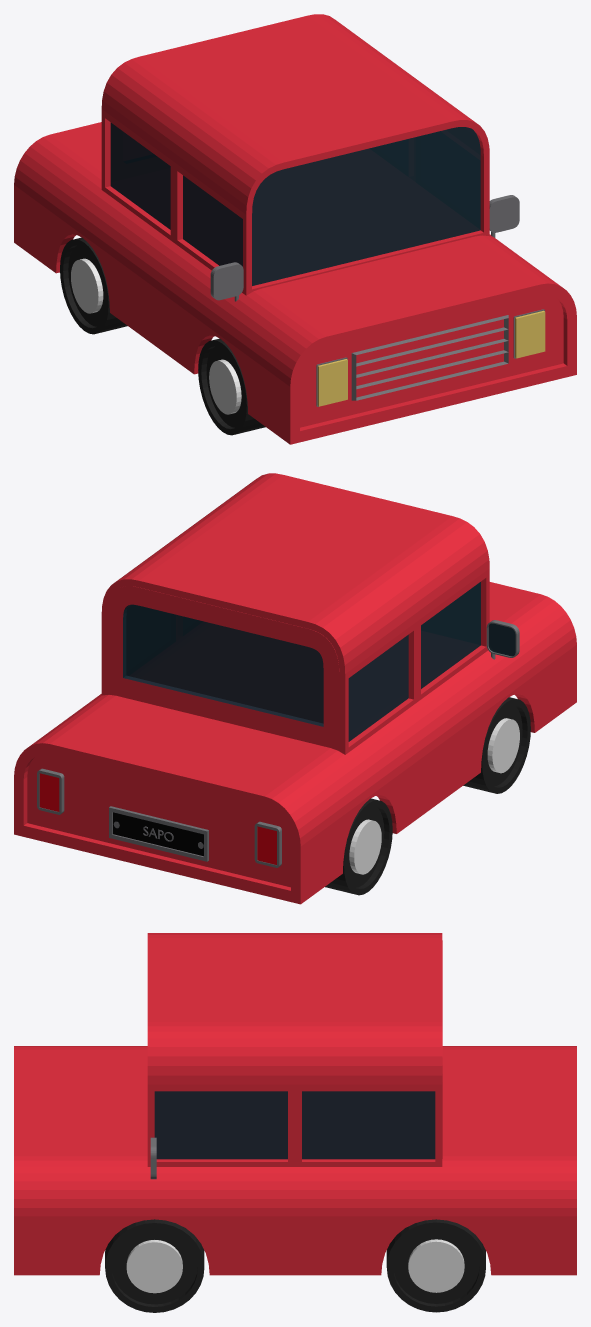
Rendered from CARRO3D.fbx.
3 renders of one model, top to bottom at view 1: azimuth 30°, elevation 25°; view 2: azimuth 150°, elevation 25°; view 3: azimuth 270°, elevation 25°, orthographic.
Parts seen in each view (by area): view 1: Chassi, Rodas Traseira Direita, Rodas Frontal Direita, Parachoque, Cubo, Retrovisores; view 2: Chassi, Rodas Traseira Direita, Rodas Frontal Direita, Placa, Farois Traseiros, Retrovisores; view 3: Chassi, Rodas Frontal Equerda, Rodas Traseira Esquerda.
Part boxes in pixels (x1,y1,x2,y2): Chassi: (14,14,576,444); Rodas Traseira Direita: (60,237,127,334); Rodas Frontal Direita: (198,338,265,435); Parachoque: (351,315,508,400); Cubo: (316,309,545,406); Retrovisores: (210,195,519,301); Chassi: (14,473,576,904); Rodas Traseira Direita: (325,798,392,895); Rodas Frontal Direita: (463,697,530,793); Placa: (109,806,208,861); Farois Traseiros: (37,768,281,867); Retrovisores: (486,620,519,659); Chassi: (14,933,576,1275); Rodas Frontal Equerda: (105,1219,204,1312); Rodas Traseira Esquerda: (386,1219,485,1312).
Bounding box in the file's own units: 194 × 156 × 303.
